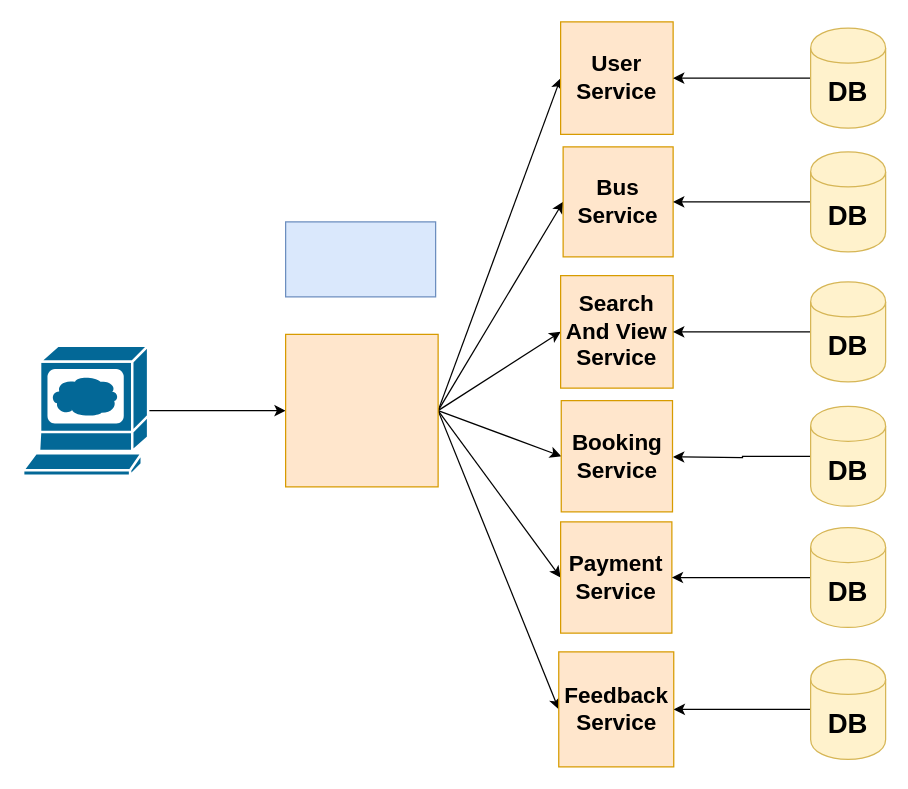
The diagram is 908 pixels wide and 789 high, and some of its shapes have lost their labels. Here are the shapes that lost their labels. From the top down, the centre of each, then its label:
point 360,259: Eureka Server
point 361,410: Front Microservice
